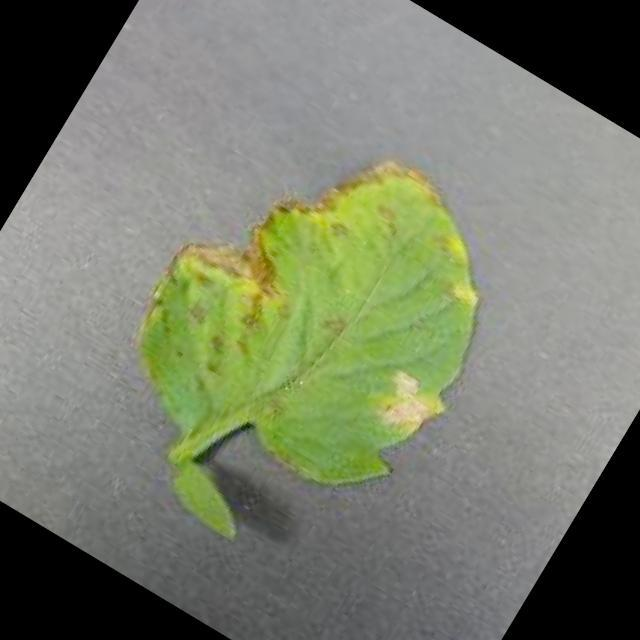Tomato bacterial spot leaf: (93, 76, 552, 547)
